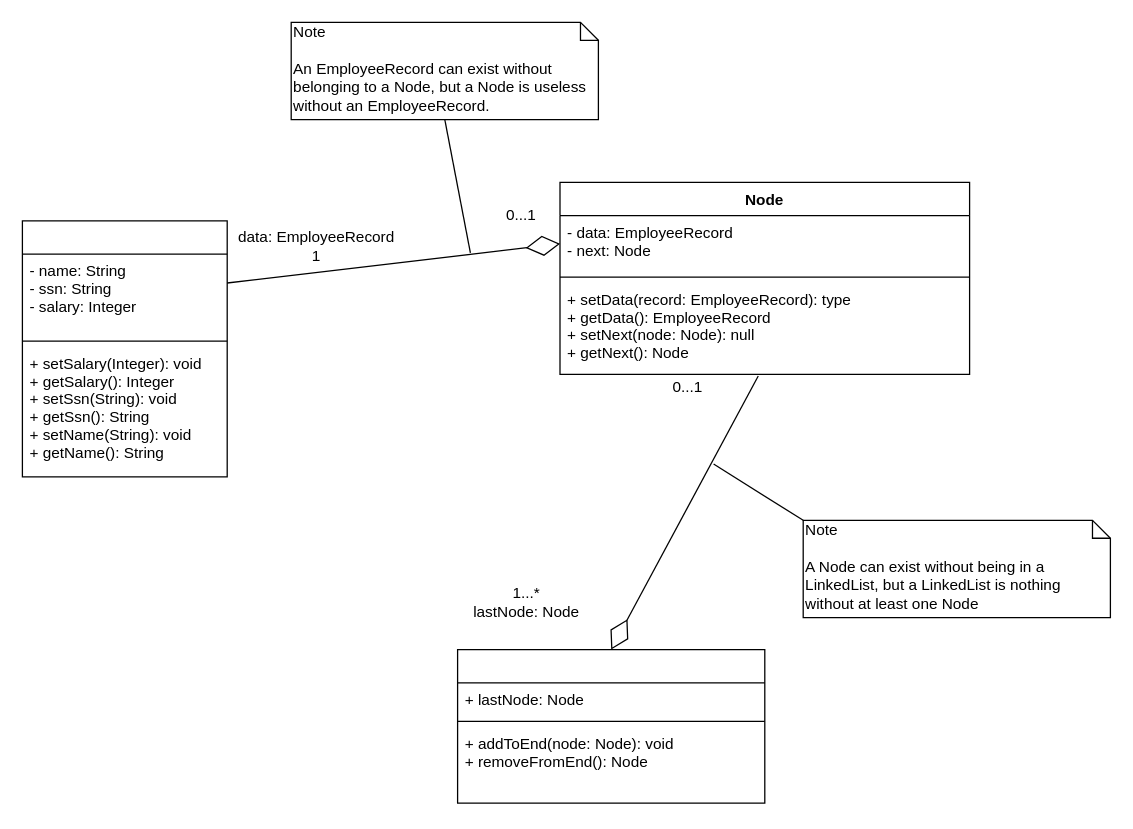
Image size: 1133x829. Some labels were removed from this diagram. The shapes that lost their labels are listed below. From the top down, each one's box as (x1, y1, x2, y2) in pixels, then its label:
(21, 220, 227, 477): EmployeeRecord
(456, 648, 765, 803): LinkedList
